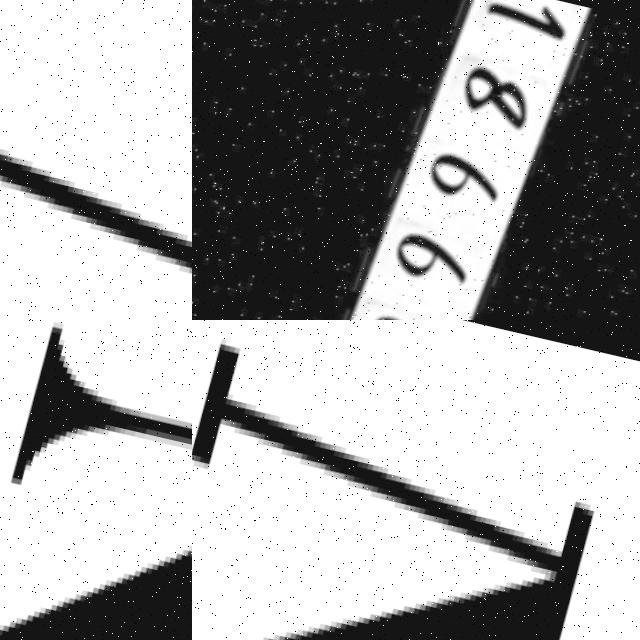1: (465, 0, 590, 69)
6: (374, 206, 499, 312), (407, 125, 530, 230), (350, 290, 464, 320)
8: (433, 38, 564, 152)
N: (192, 329, 639, 640), (0, 320, 192, 640)
U: (0, 0, 192, 320)
